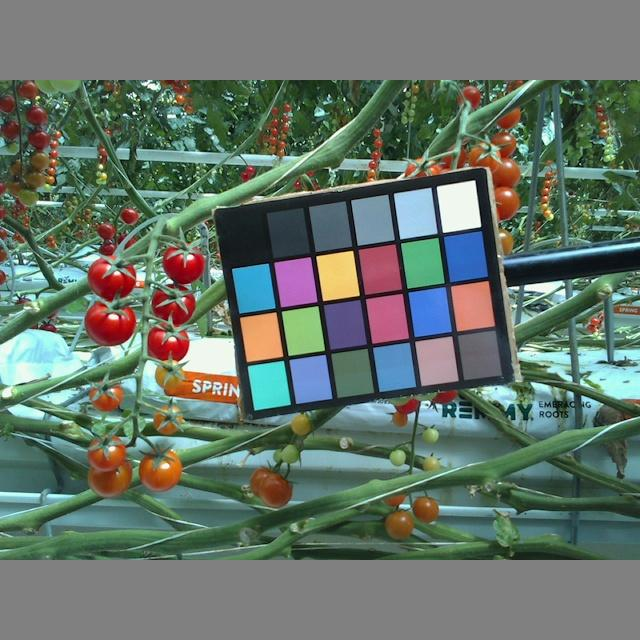green: (278, 443, 300, 462), (386, 449, 406, 466), (421, 428, 440, 441), (427, 453, 439, 470)
pink: (138, 450, 182, 492), (252, 467, 292, 507), (87, 466, 132, 499), (89, 434, 125, 468), (492, 184, 520, 218), (88, 383, 122, 408), (153, 406, 182, 435), (491, 159, 523, 185), (388, 511, 414, 541), (471, 143, 501, 168), (491, 132, 518, 158), (152, 363, 183, 385), (415, 498, 440, 523), (498, 102, 521, 128), (496, 226, 514, 256), (291, 416, 311, 437), (383, 494, 406, 507)
red: (88, 301, 135, 346), (149, 284, 200, 322), (143, 321, 188, 364), (90, 257, 138, 297), (163, 242, 206, 285)
